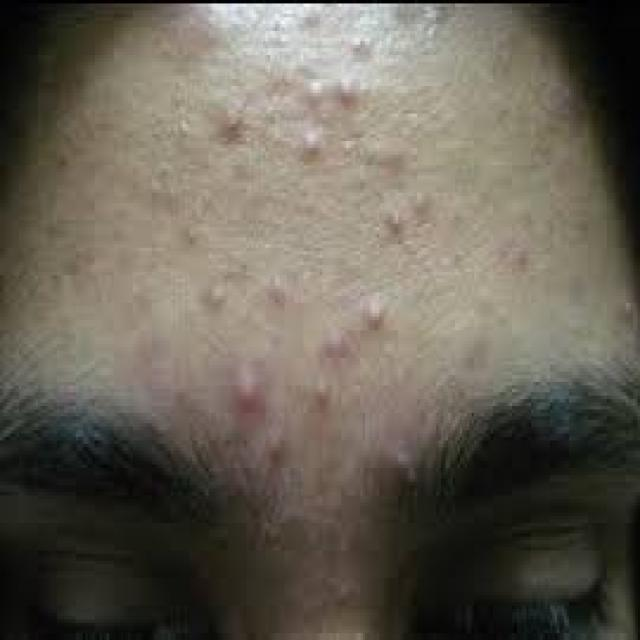nodule: (226, 363, 268, 419), (216, 106, 243, 140), (323, 328, 351, 360), (363, 300, 387, 331), (338, 75, 358, 109), (300, 131, 323, 159), (304, 79, 324, 107), (312, 377, 331, 404)
